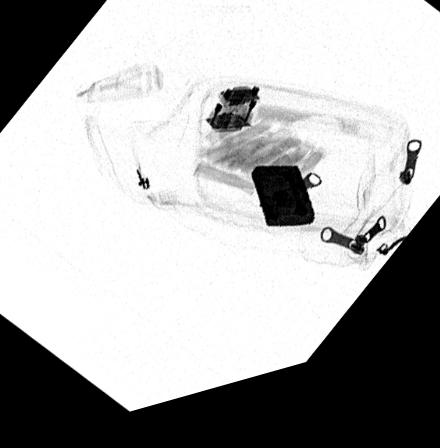Lighter: (248, 177, 315, 242)
